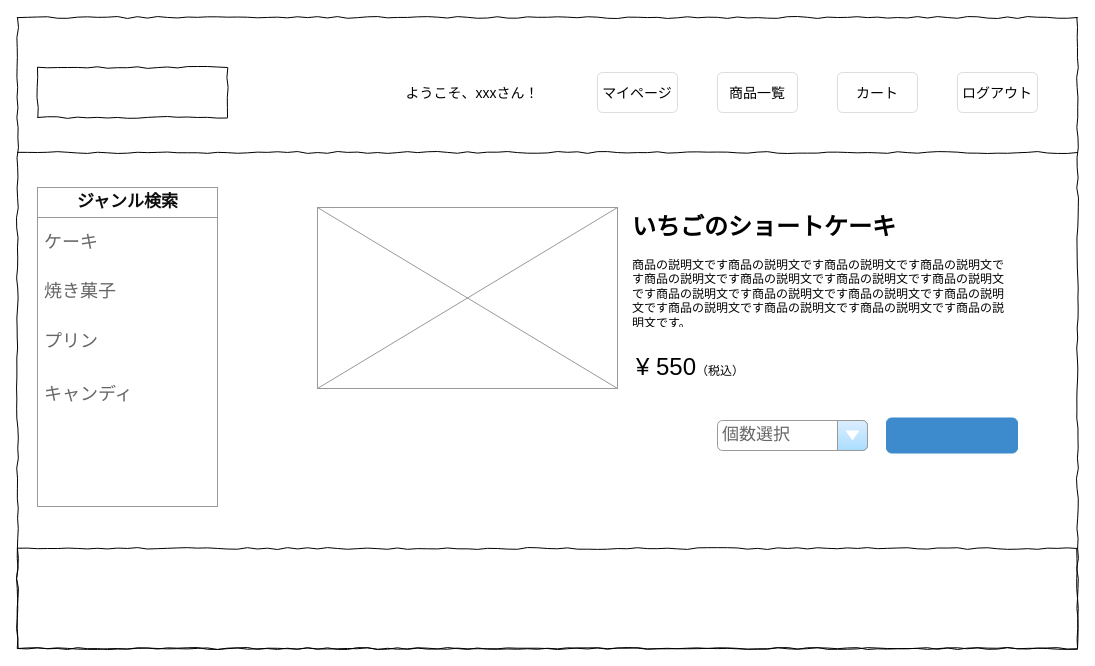
This 1095x666 diagram has some shape labels left out. The centre of each missing label's shape, as x and y in pixels:
"LOGO" goes at point 132,92.
"カートに入れる" goes at point 952,435.
